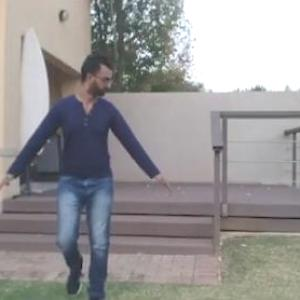land: (1, 46, 184, 299)
